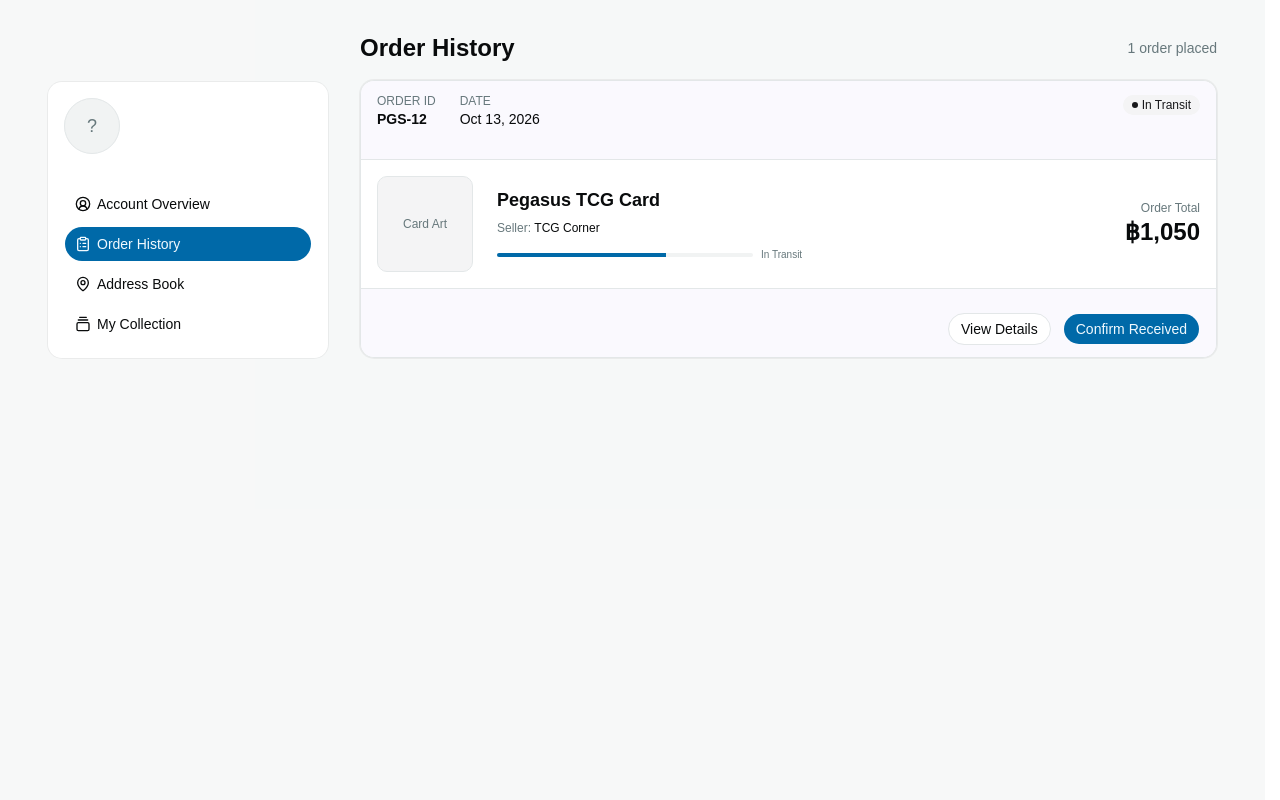
confirms shipped seller orders through the parent order and updates the dialog
Click the button "View Details": (999, 329) left=948, top=313, right=1051, bottom=345
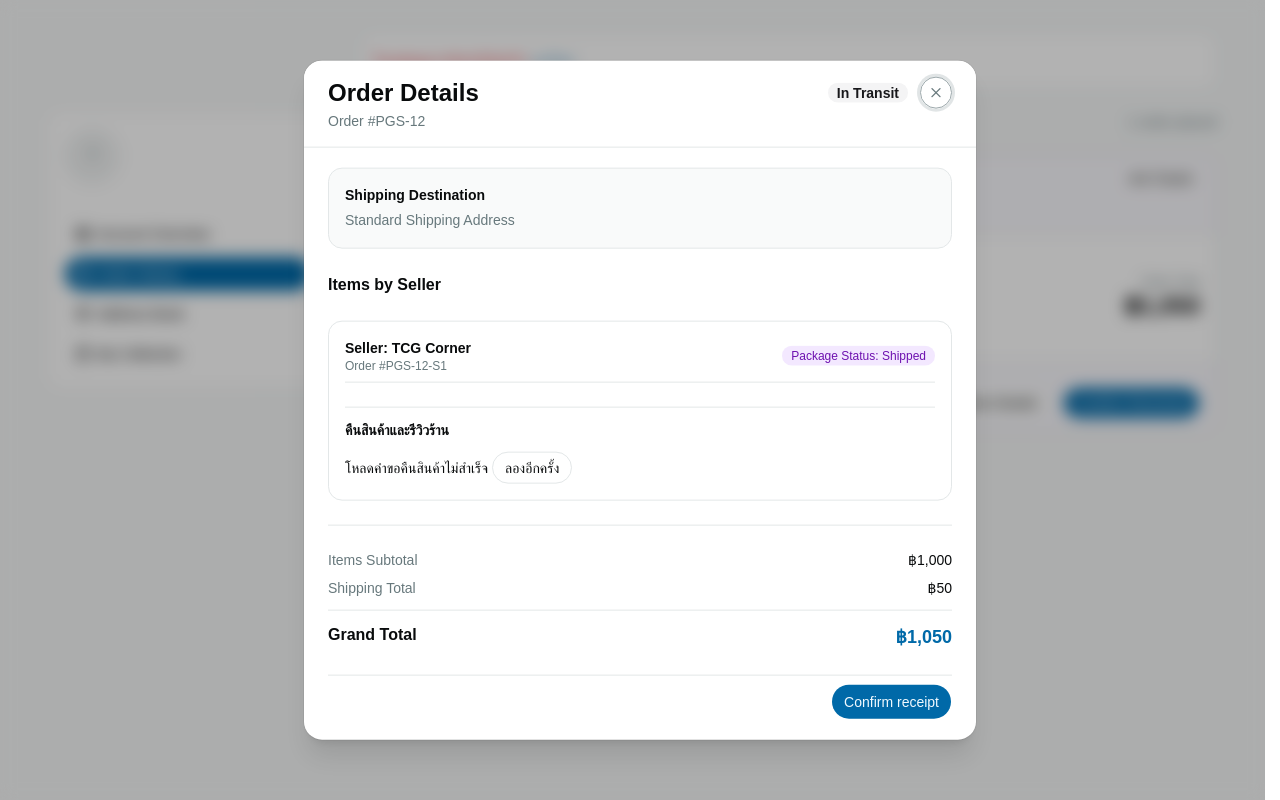
Click the button "Confirm receipt": (892, 701) left=831, top=683, right=952, bottom=719
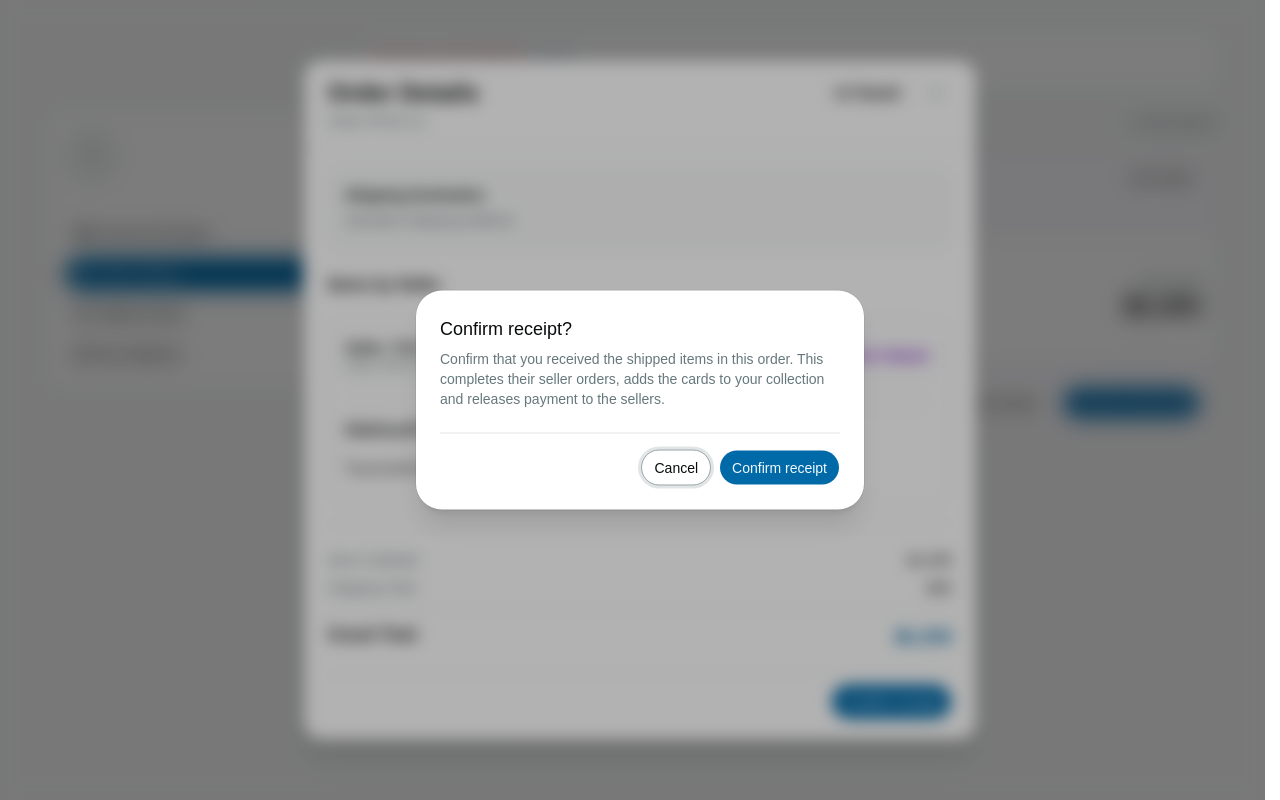
Expected: the dialog "Confirm receipt?" is shown, left=416, top=290, right=864, bottom=510
Click the button "Confirm receipt": (780, 468) left=719, top=450, right=840, bottom=486
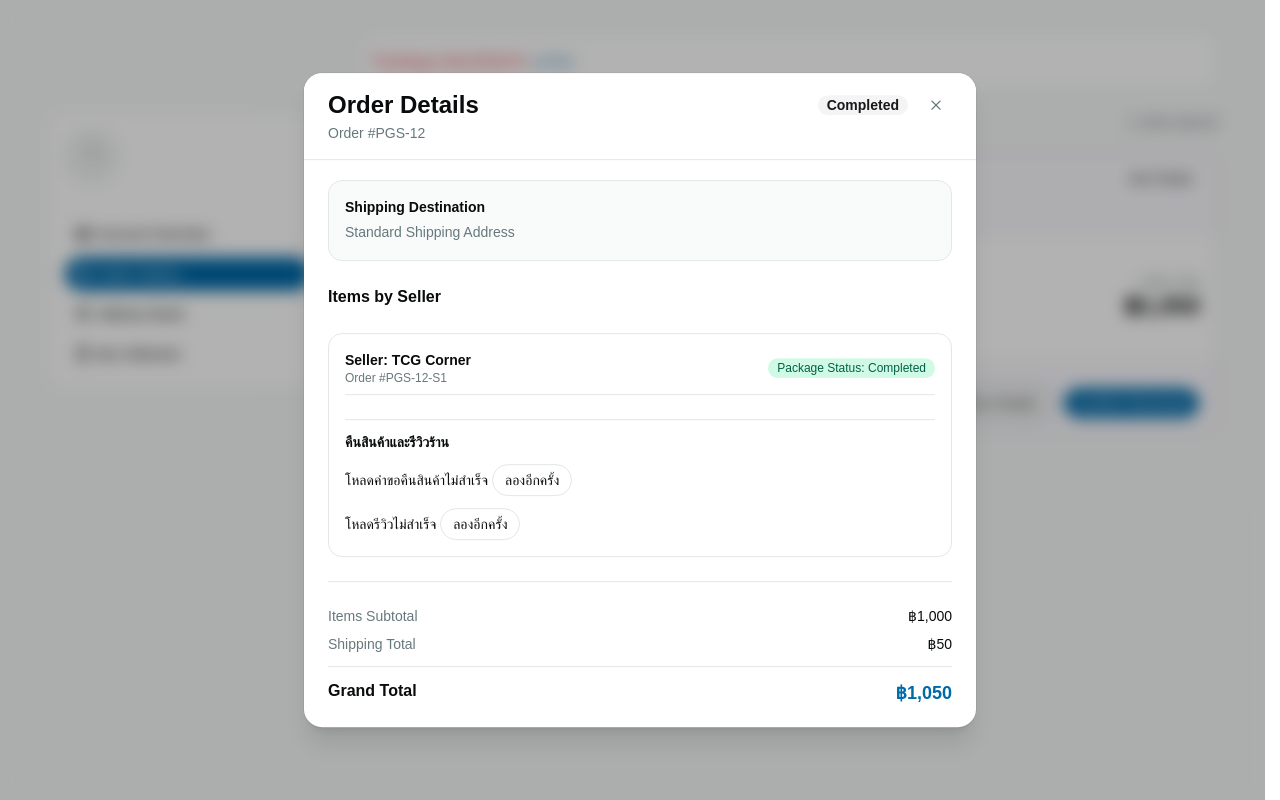
Expected: the button "Confirm receipt" is gone
Expected: the text "Package Status: Completed" is shown, left=768, top=358, right=935, bottom=378
